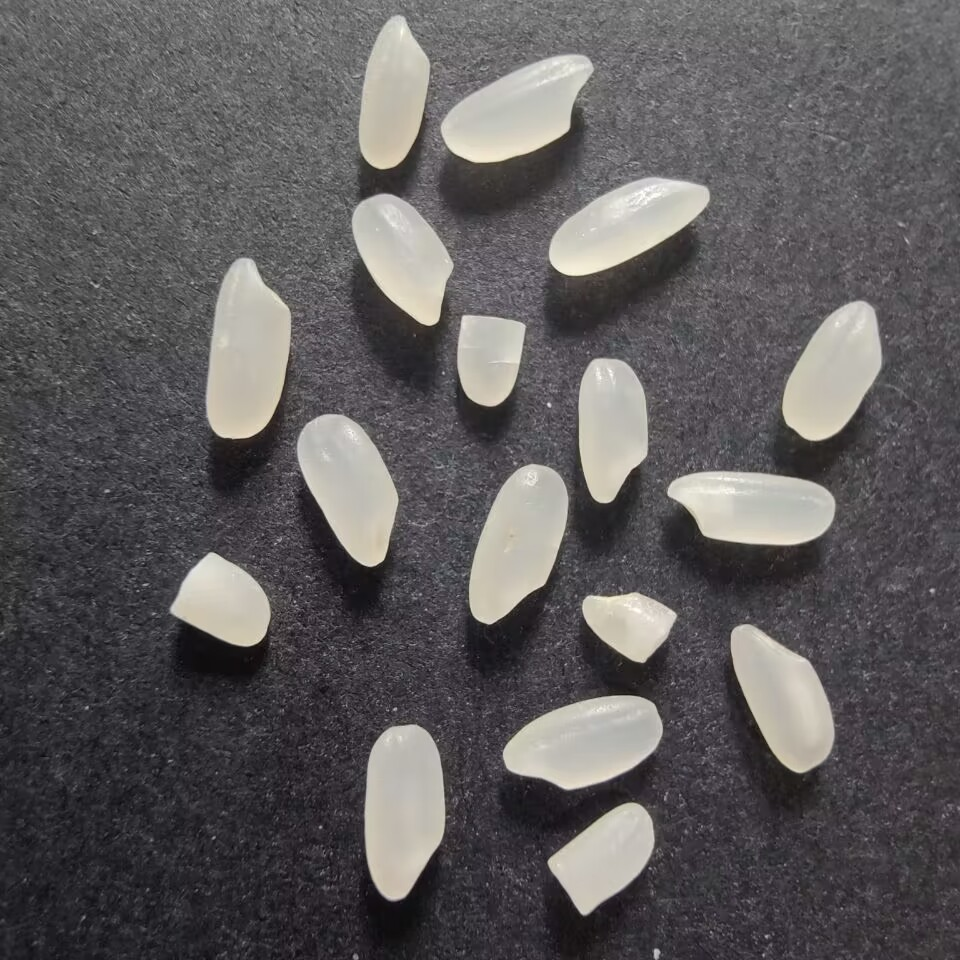broken: (542, 797, 661, 923), (163, 549, 276, 652), (574, 580, 681, 671), (452, 308, 530, 412)
rice: (436, 47, 598, 168), (199, 250, 296, 446), (544, 172, 716, 279), (728, 620, 843, 780), (292, 410, 403, 575), (464, 459, 571, 630), (497, 689, 669, 794), (776, 293, 889, 444), (362, 715, 450, 904), (661, 464, 840, 554), (344, 190, 457, 329), (354, 9, 436, 176), (576, 351, 650, 508)
